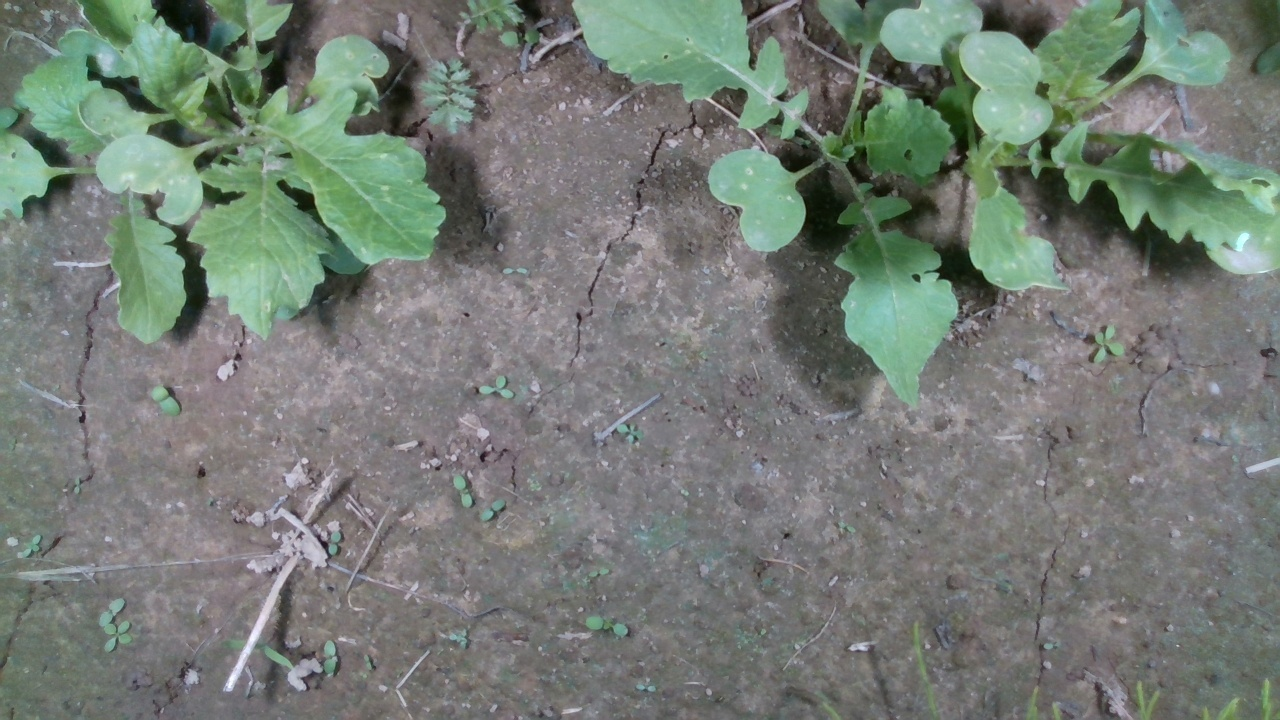weed: (1093, 321, 1125, 365), (150, 385, 181, 419), (585, 614, 630, 637), (477, 374, 515, 400), (451, 474, 473, 509), (615, 420, 644, 445), (480, 498, 506, 521), (21, 533, 42, 558), (322, 639, 336, 676), (326, 530, 341, 557), (585, 566, 611, 578), (362, 653, 374, 672), (1041, 639, 1062, 649), (71, 476, 81, 496), (634, 683, 656, 692)
